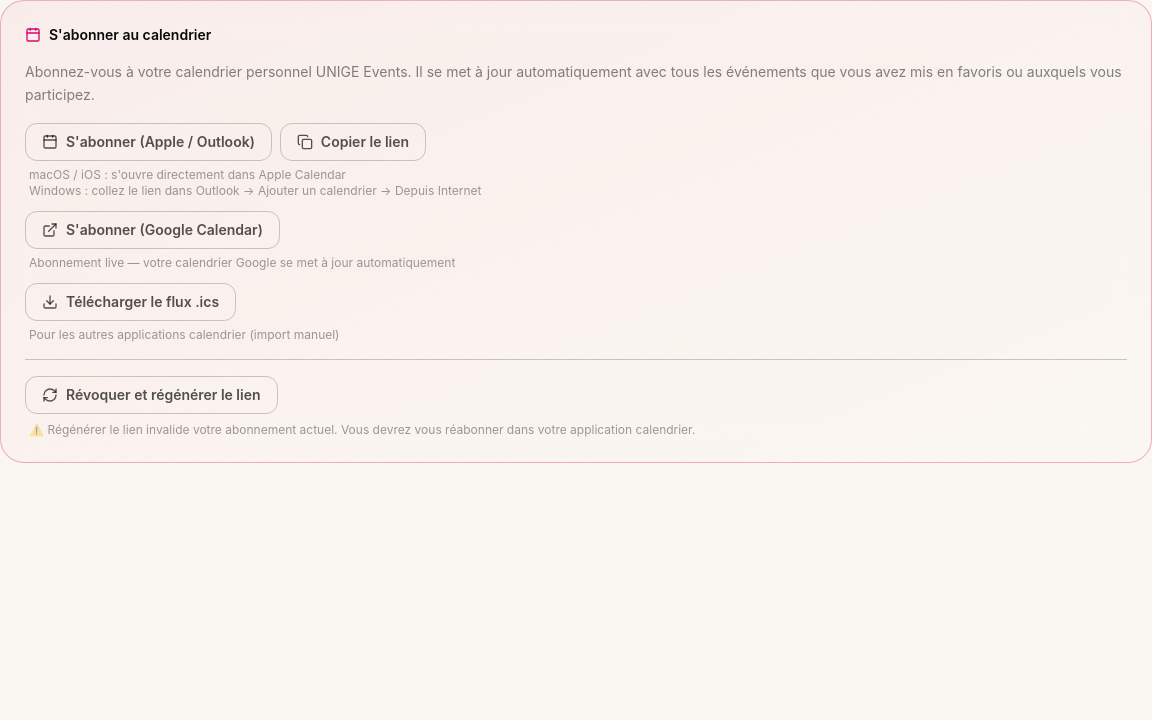
Test: CalendarSubscribeButton › shows confirmation message after regeneration
The width and height of the screenshot is (1152, 720).
Click the button "Révoquer et régénérer le lien": click(151, 394) [25, 376, 278, 414]
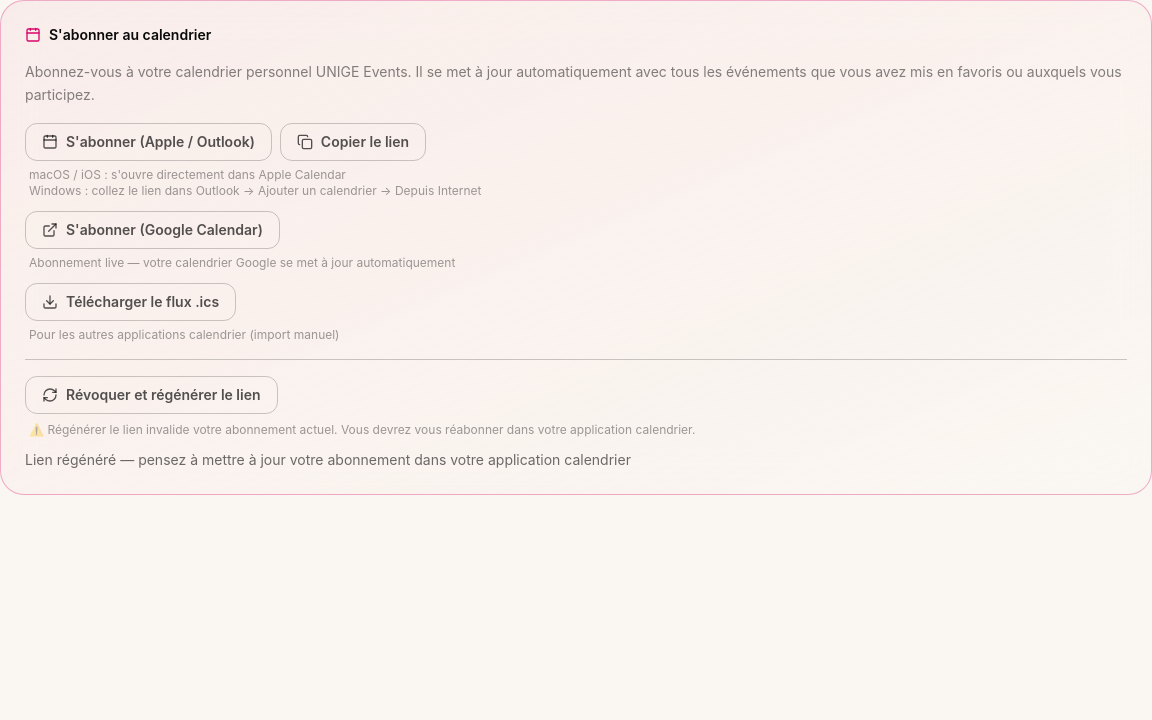
Now the text "Lien régénéré — pensez à mettre à jour votre abonnement dans votre application calendrier" is shown, box [25, 450, 631, 468]
